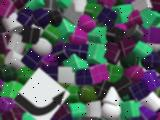Left: (12, 67, 70, 120)
